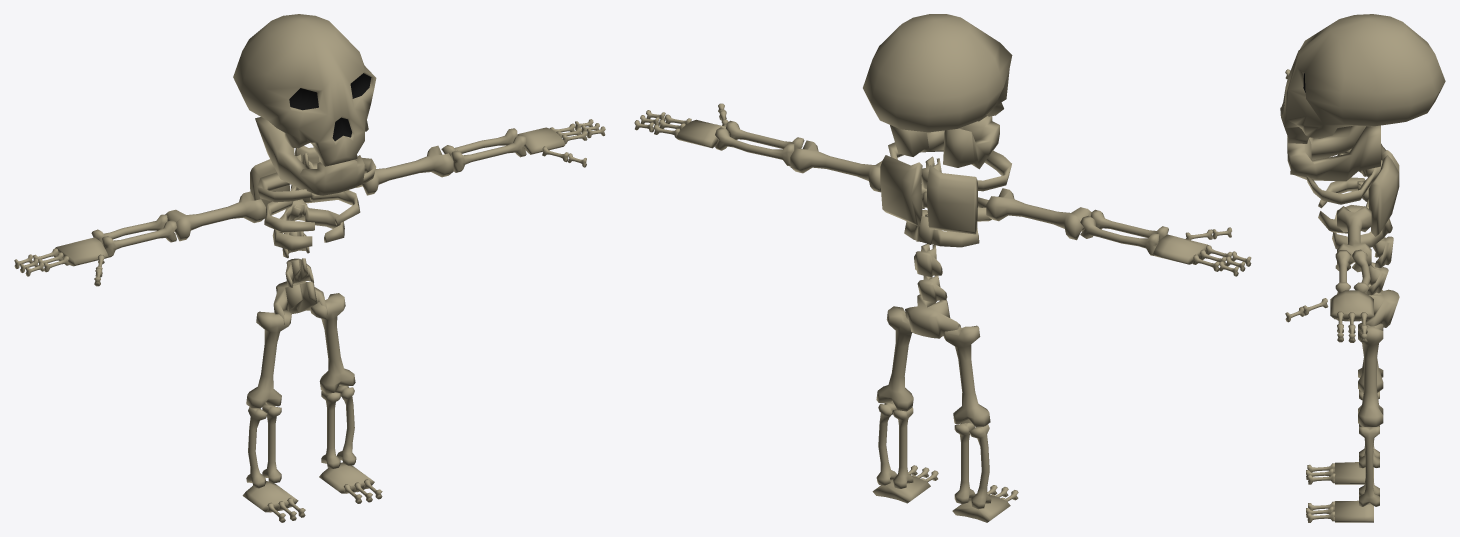
Rendered from ESQUELETO.obj.
The picture shows the model from 3 angles, left to right: view 1: azimuth 30°, elevation 25°; view 2: azimuth 150°, elevation 25°; view 3: azimuth 270°, elevation 25°; orthographic projection. The views are drawn at different scales.
Visible parts, largest first — view 1: esqueleto.001_Cylinder.001; view 2: esqueleto.001_Cylinder.001; view 3: esqueleto.001_Cylinder.001.
Part boxes in pixels (x1,y1,x2,y2): esqueleto.001_Cylinder.001: [14, 14, 605, 522]; esqueleto.001_Cylinder.001: [634, 14, 1251, 522]; esqueleto.001_Cylinder.001: [1280, 14, 1445, 522].
Size of the model in its own units: 1.09 by 0.8433 by 0.2638.
